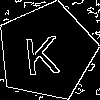K: (21, 27, 61, 76)
